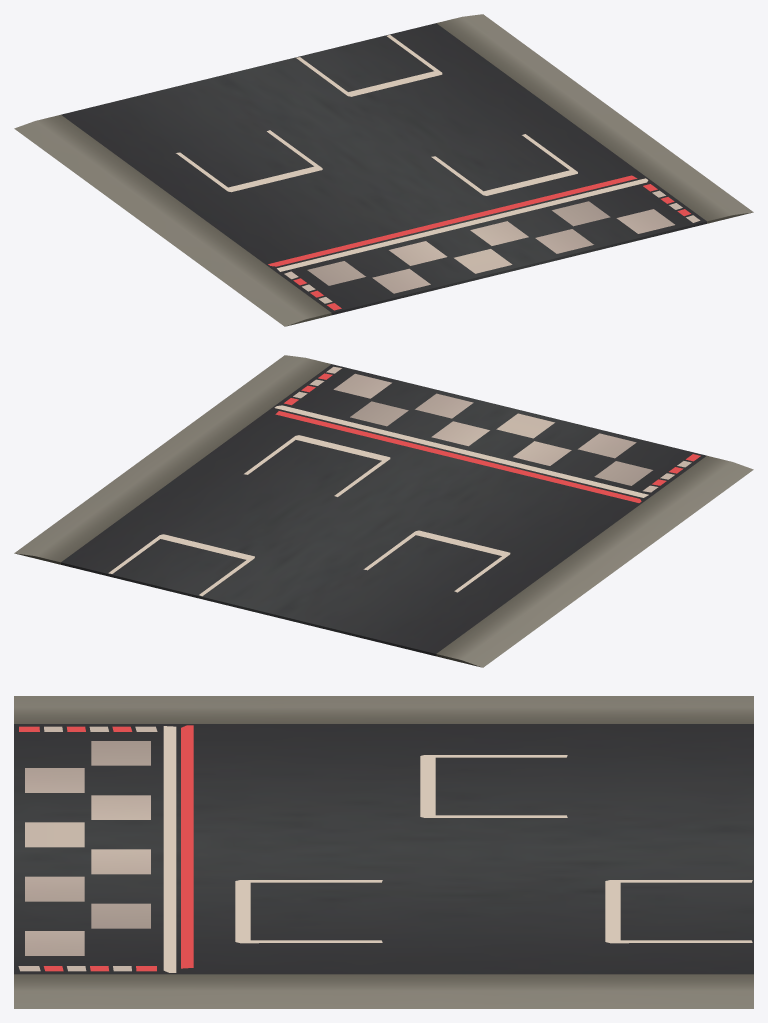
File: Start_Finish.glb
3 views of the same model, one above another, from view 1: azimuth 30°, elevation 25°; view 2: azimuth 150°, elevation 25°; view 3: azimuth 270°, elevation 25° (orthographic). The views are drawn at different scales.
Visible parts, largest first — view 1: Straight_1A; view 2: Straight_1A; view 3: Straight_1A.
Boxes of the visible parts, box(x1,y1,x2,y2) form: Straight_1A: box(14, 14, 753, 326); Straight_1A: box(14, 355, 753, 667); Straight_1A: box(14, 696, 753, 1008).
Bounding box in the file's own units: 20 × 0.104 × 20.
Materials: 1 (1 with a texture image).
